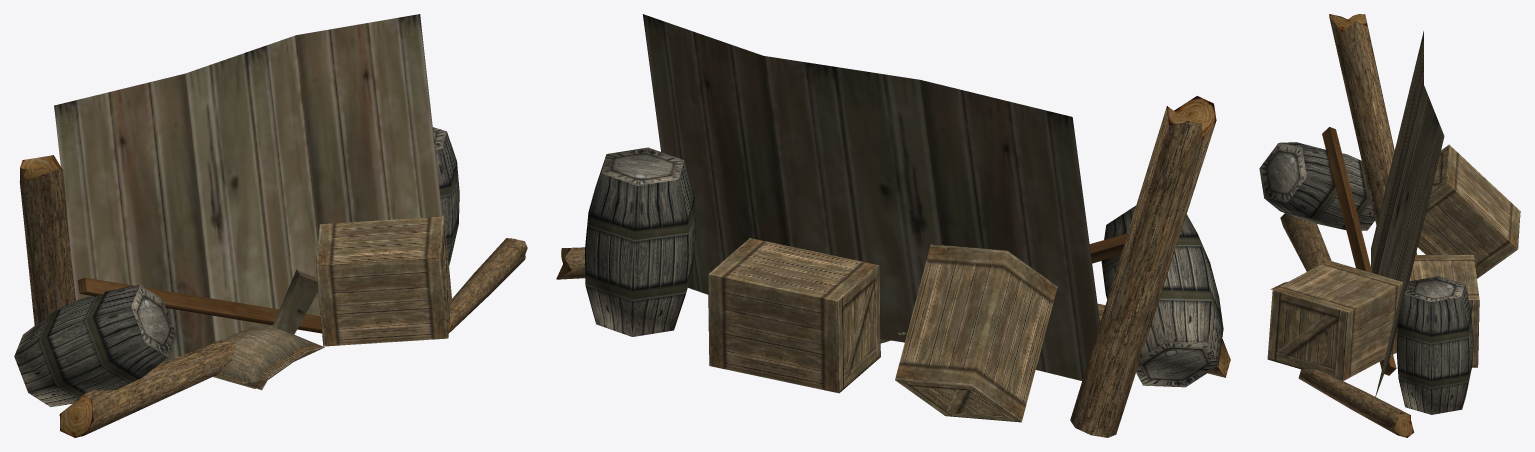
Rendered from pir_m_prp_inv_barricade_03.fbx.
The picture shows the model from 3 angles, left to right: view 1: azimuth 30°, elevation 25°; view 2: azimuth 150°, elevation 25°; view 3: azimuth 270°, elevation 25°; orthographic projection. The views are drawn at different scales.
Parts seen in each view (by area): view 1: pPlane2, pPlane1, barrel, crate, polycombine4, polycombine3, Top, SackMesh2, lod_high.001, polycombine, barrel7, lod_high1; view 2: pPlane2, pPlane1, barrel7, polycombine4, crate1, Top4, crate4, barrel, Top1, polycombine, lod_high.001; view 3: barrel7, pPlane2, crate, barrel, polycombine4, crate4, Top, Top4, polycombine, lod_high.001, pPlane1, Top1 (+2 smaller).
Part boxes in pixels (box(x1,y1,x2,y2)): pPlane2: box(54, 14, 442, 364); pPlane1: box(54, 15, 418, 362); barrel: box(14, 284, 176, 406); crate: box(316, 217, 451, 346); polycombine4: box(19, 155, 74, 325); polycombine3: box(59, 340, 236, 437); Top: box(316, 216, 444, 265); SackMesh2: box(216, 326, 324, 383); lod_high.001: box(77, 277, 321, 333); polycombine: box(448, 238, 527, 333); barrel7: box(432, 127, 459, 265); lod_high1: box(272, 269, 318, 334); pPlane2: box(642, 14, 1099, 380); pPlane1: box(643, 15, 1098, 380); barrel7: box(585, 147, 695, 336); polycombine4: box(1070, 96, 1216, 437); crate1: box(708, 265, 880, 393); Top4: box(895, 244, 1007, 386); crate4: box(895, 250, 1057, 422); barrel: box(1101, 205, 1223, 387); Top1: box(708, 238, 878, 301); polycombine: box(556, 247, 585, 279); lod_high.001: box(1089, 233, 1127, 263); barrel7: box(1396, 276, 1473, 414); pPlane2: box(1371, 31, 1444, 396); crate: box(1267, 260, 1402, 380); barrel: box(1259, 142, 1375, 230); polycombine4: box(1329, 14, 1417, 254); crate4: box(1417, 144, 1517, 278); Top: box(1274, 260, 1402, 312); Top4: box(1446, 145, 1520, 248); polycombine: box(1298, 369, 1413, 437); lod_high.001: box(1322, 127, 1396, 375); pPlane1: box(1373, 41, 1442, 290); Top1: box(1410, 254, 1479, 300).
Bounding box in the file's own units: 2775 × 1391 × 1379.
1 material, 1 textured.
